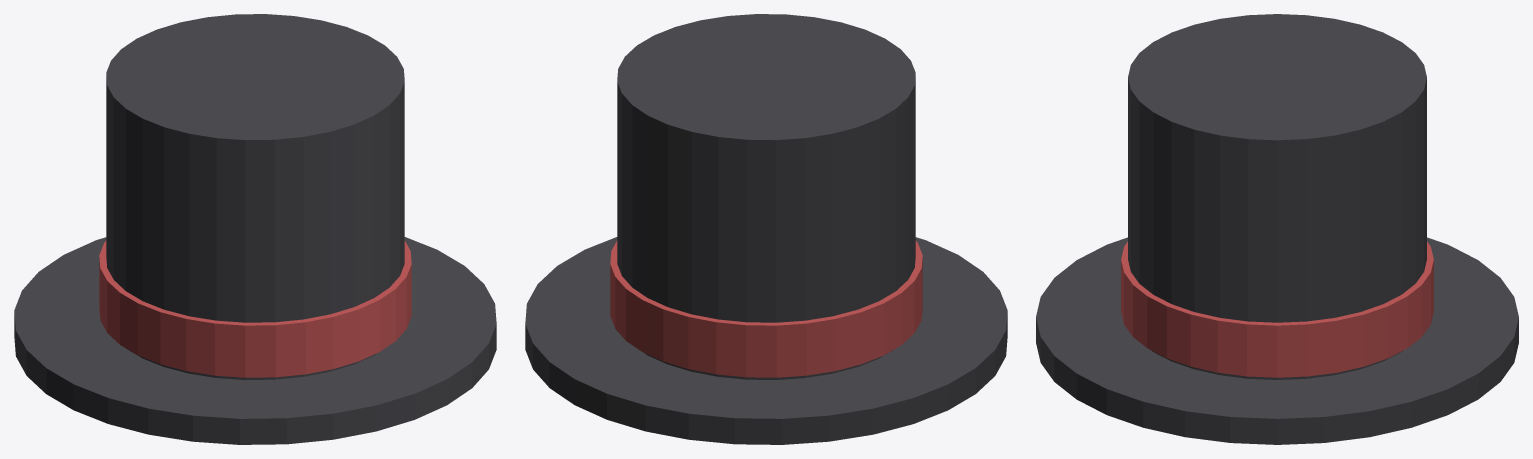
Rendered from 06-haut-de-forme.glb.
The picture shows the model from 3 angles, left to right: view 1: azimuth 30°, elevation 25°; view 2: azimuth 150°, elevation 25°; view 3: azimuth 270°, elevation 25°; orthographic projection.
Visible parts, largest first — view 1: hdf-tube, hdf-bord, hdf-ruban; view 2: hdf-tube, hdf-bord, hdf-ruban; view 3: hdf-tube, hdf-bord, hdf-ruban.
Part boxes in pixels (left/top/right/bottom): hdf-tube: left=106, top=14, right=404, bottom=379; hdf-bord: left=14, top=237, right=496, bottom=444; hdf-ruban: left=99, top=240, right=411, bottom=377; hdf-tube: left=617, top=14, right=915, bottom=379; hdf-bord: left=525, top=237, right=1007, bottom=444; hdf-ruban: left=610, top=240, right=922, bottom=377; hdf-tube: left=1128, top=14, right=1426, bottom=379; hdf-bord: left=1036, top=237, right=1518, bottom=444; hdf-ruban: left=1121, top=241, right=1433, bottom=377.
Bounding box in the file's own units: 0.84 × 0.51 × 0.84.
